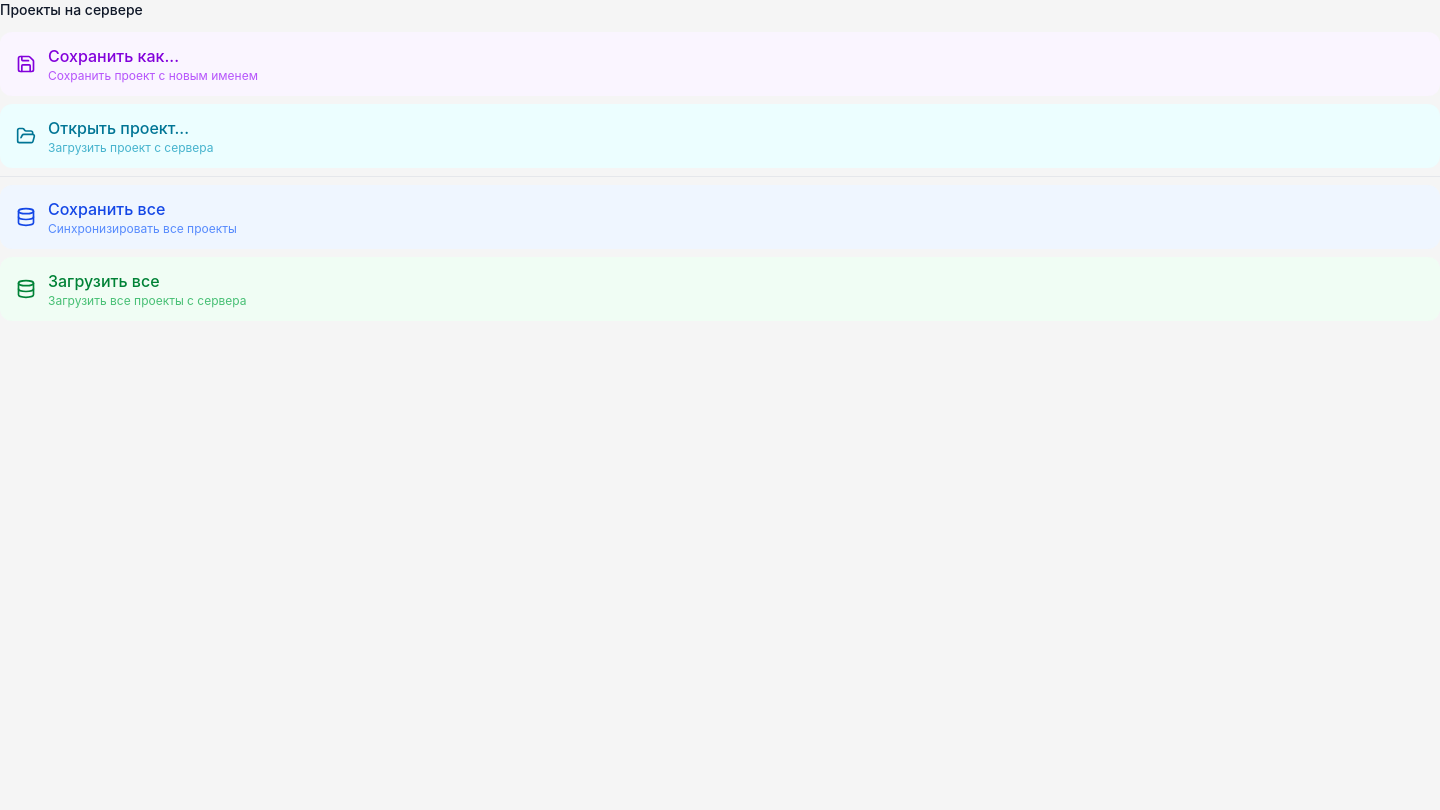
SyncPanel › Сохранить как › Escape закрывает диалог
The width and height of the screenshot is (1440, 810).
Click the text "Сохранить как...".
click(114, 56)  # box [48, 46, 179, 66]
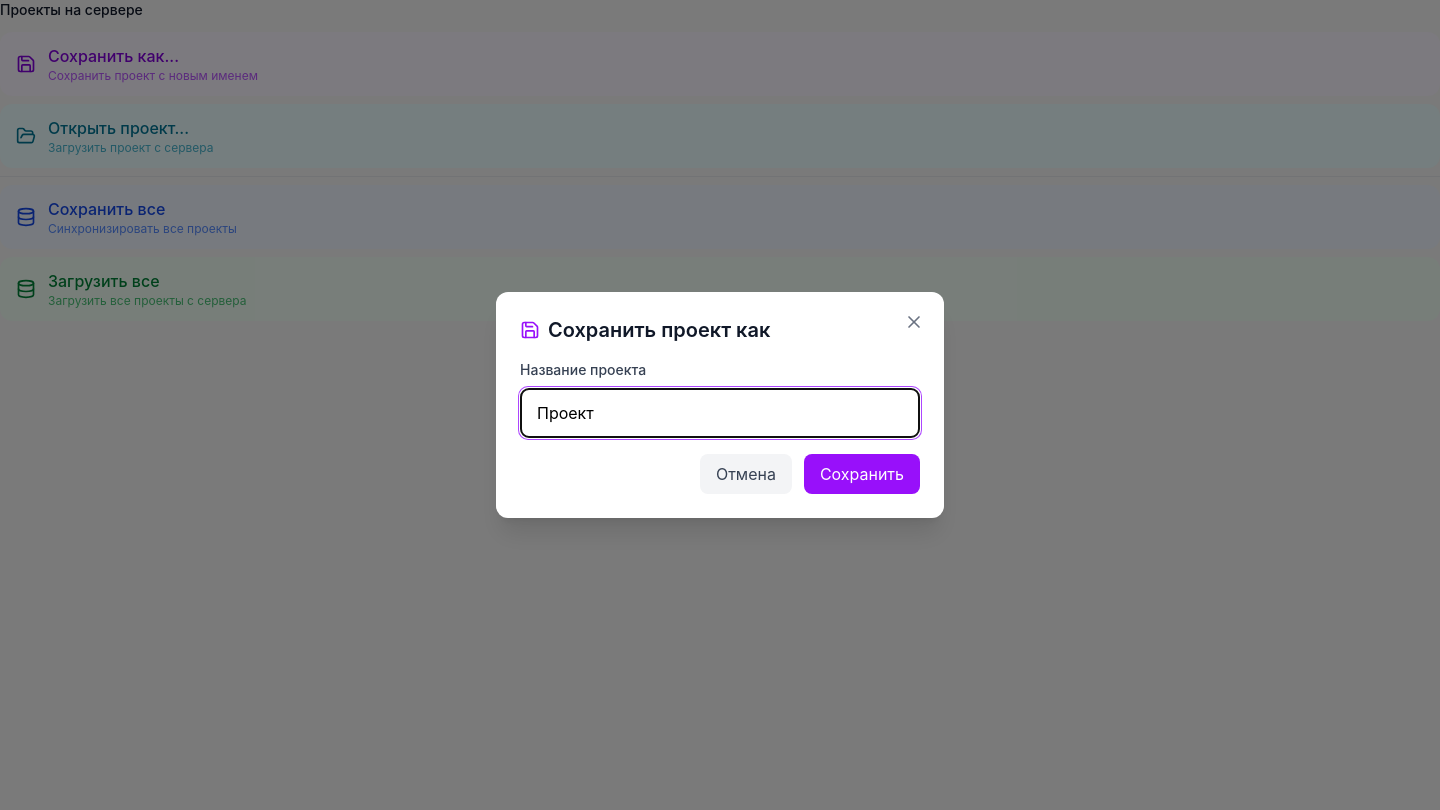
Result: the heading "Сохранить проект как" is shown at [520, 318, 770, 342]
Press Escape in the field with placeholder "Введите название проекта", box [520, 388, 920, 438]
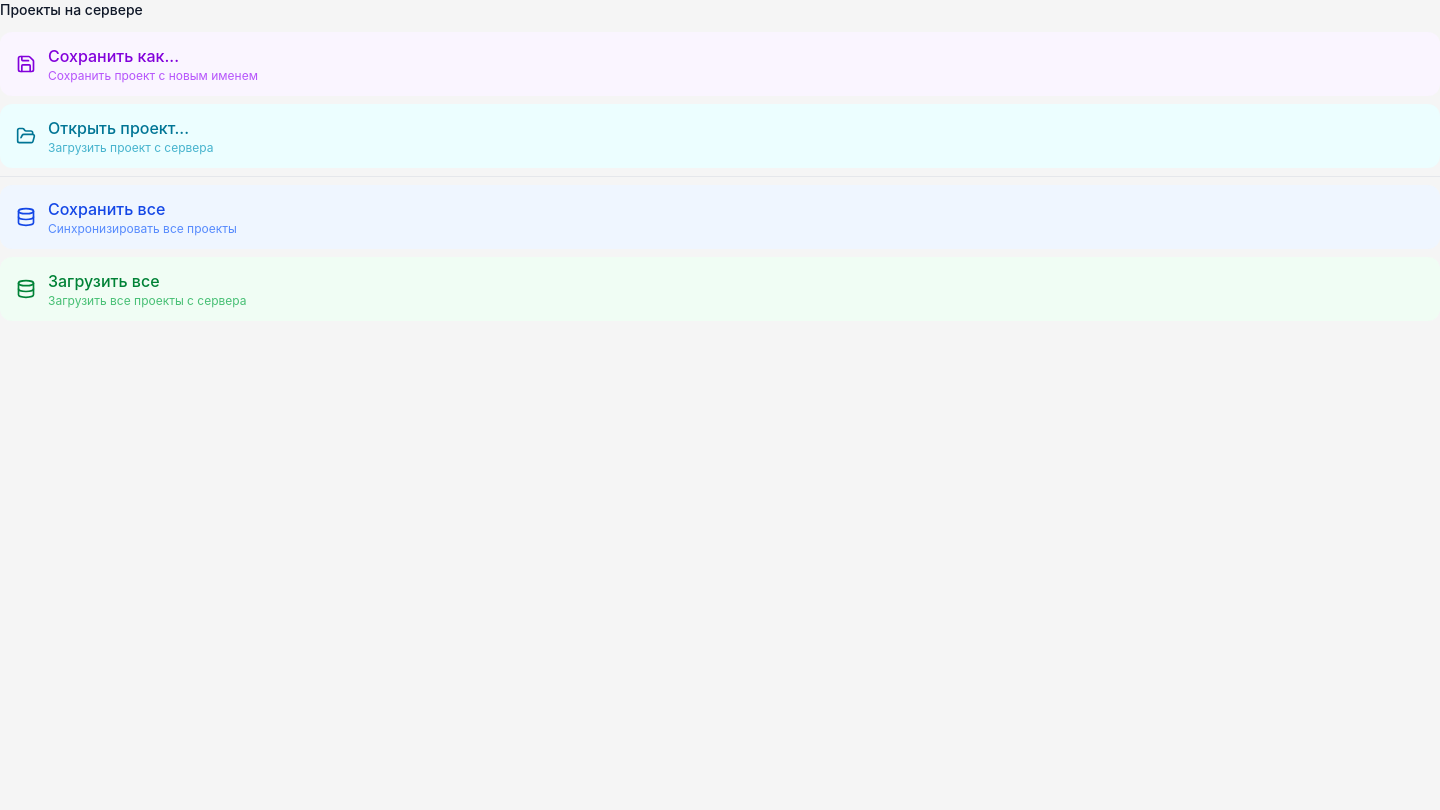
Result: the heading "Сохранить проект как" is gone
